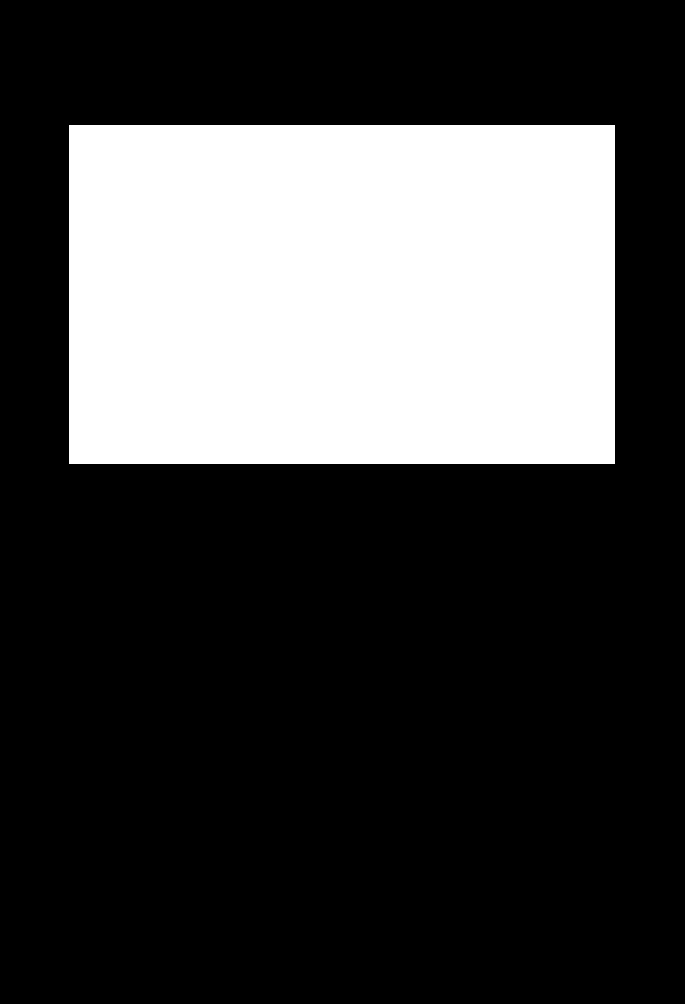table: (69, 125, 614, 463)
